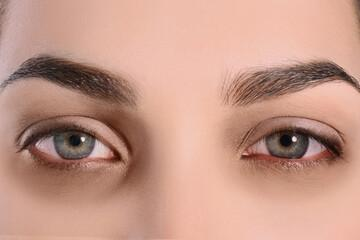Eyebags: (17, 151, 123, 201), (233, 157, 339, 199)
